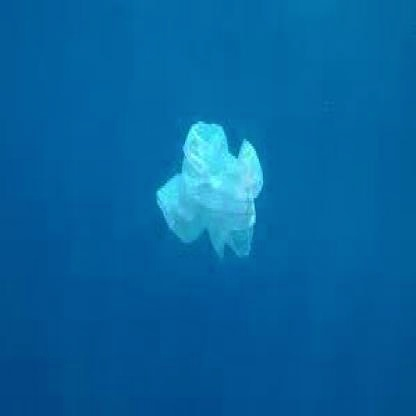pbag: (155, 121, 264, 265)
